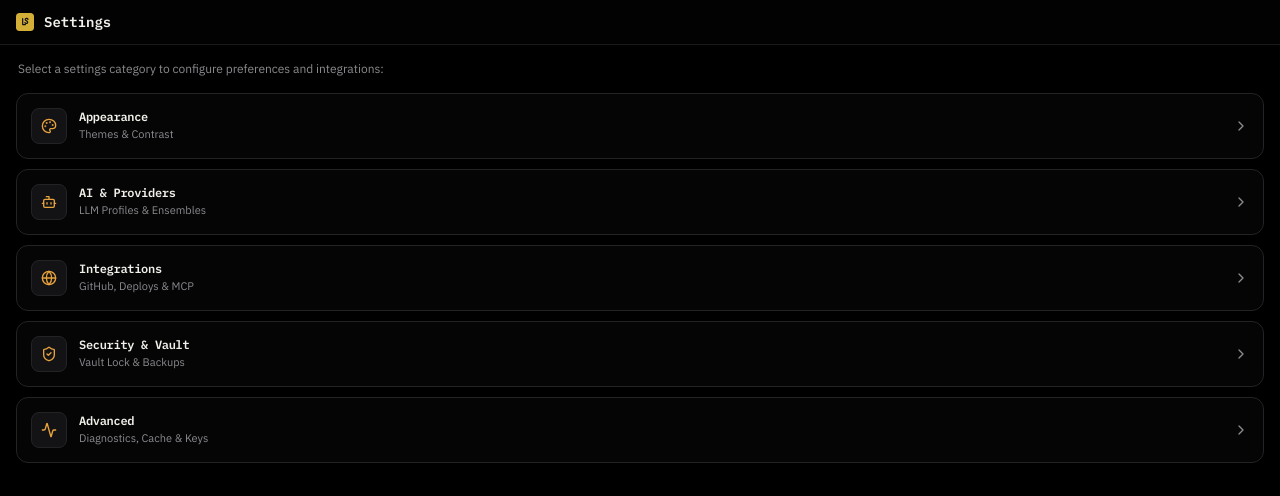
SettingsPanel › Navigation & Category Routing › supports single-column drill-down and back navigation on narrow widths (<700px)
The width and height of the screenshot is (1280, 496).
Tap on Security & Vault category card
Click the button "Security & Vault Vault Lock & Backups" at point(49, 354), box [16,321,1264,387]
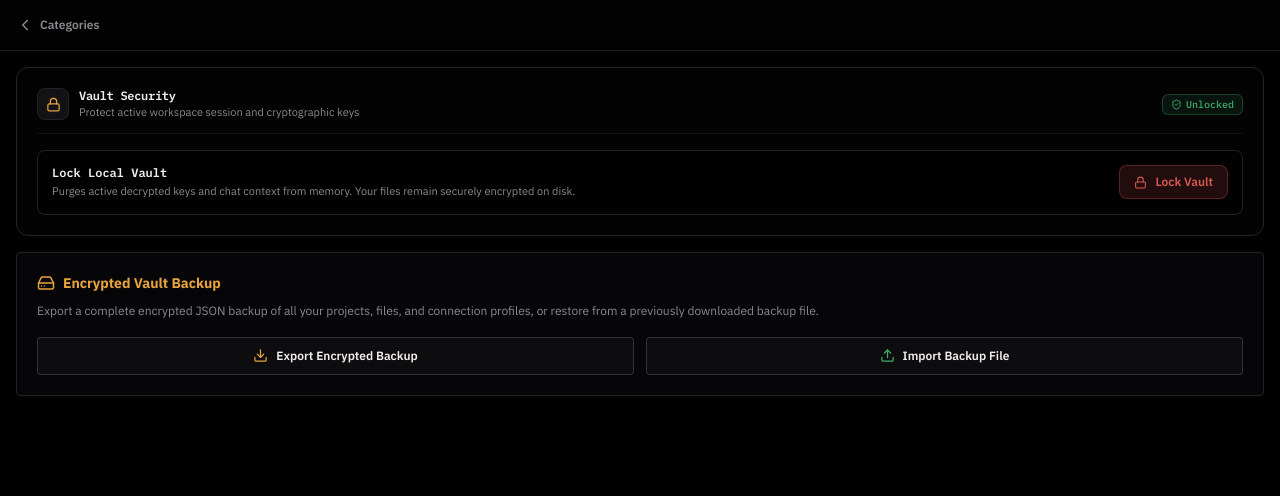
Now the element with test id "settings-category-detail" is shown
Now the heading "Encrypted Vault Backup" is shown, box [63,273,221,293]
Now the button with aria-label "Back to Settings categories" is shown
Click the button with aria-label "Back to Settings categories" at point(58, 25), box [16,12,99,38]
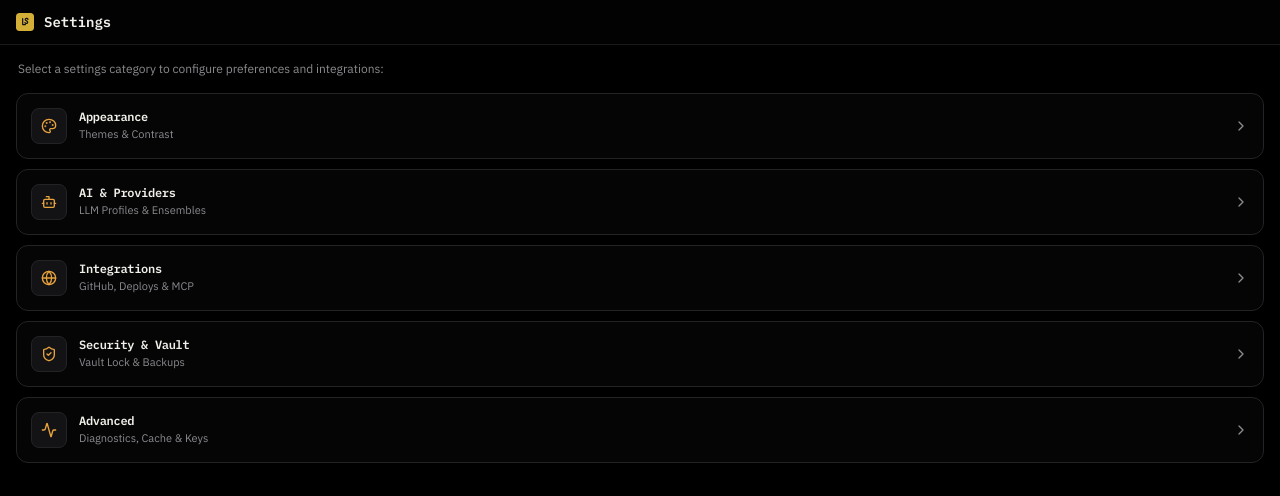
Now the element with test id "settings-category-list" is shown
